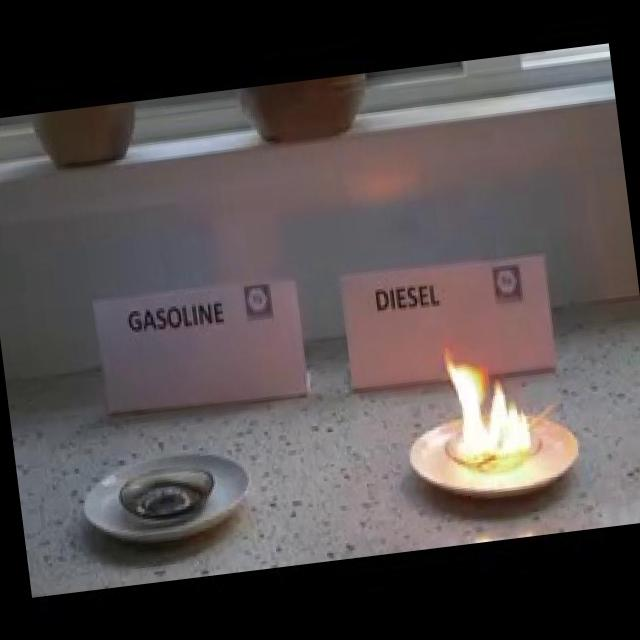Fire: (439, 342, 536, 472)
